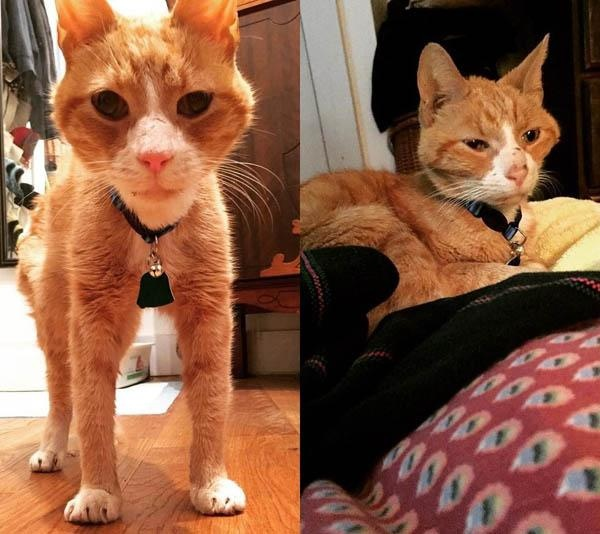cat: (15, 1, 258, 527), (299, 33, 561, 333)
